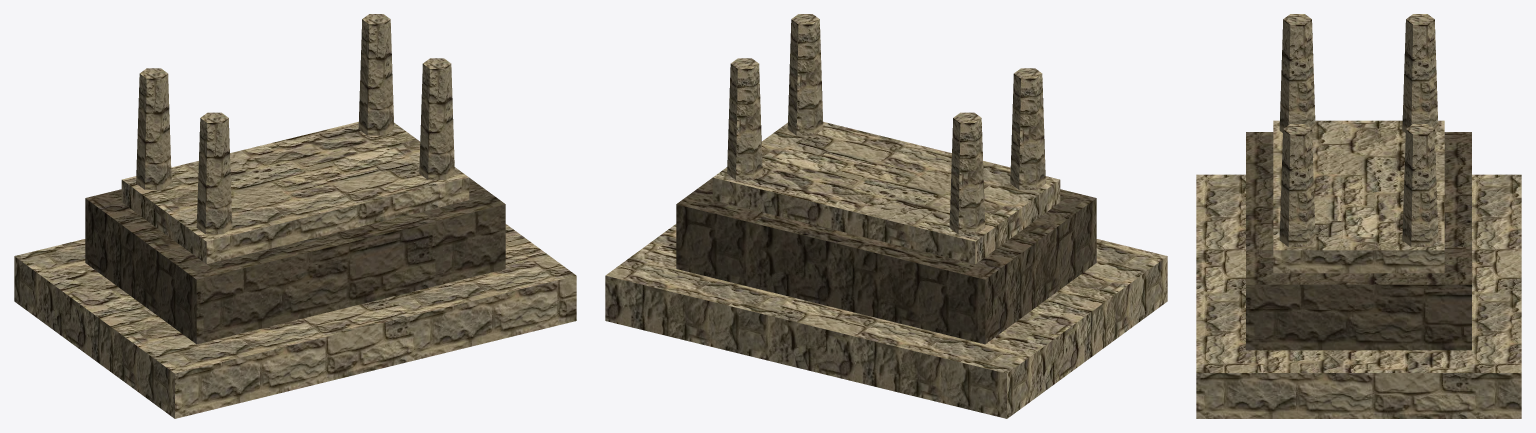
File: altar_01.glb
3 views of the same model, side by side, from view 1: azimuth 30°, elevation 25°; view 2: azimuth 150°, elevation 25°; view 3: azimuth 270°, elevation 25° (orthographic).
Parts seen in each view (by area): view 1: altar_01; view 2: altar_01; view 3: altar_01.
Part boxes in pixels (left/top/right/bottom): altar_01: left=14, top=14, right=576, bottom=418; altar_01: left=605, top=14, right=1167, bottom=418; altar_01: left=1196, top=14, right=1521, bottom=418.
Size of the model in its own units: 2.6 by 1.5 by 1.8.
Materials: 2 (2 with a texture image).
